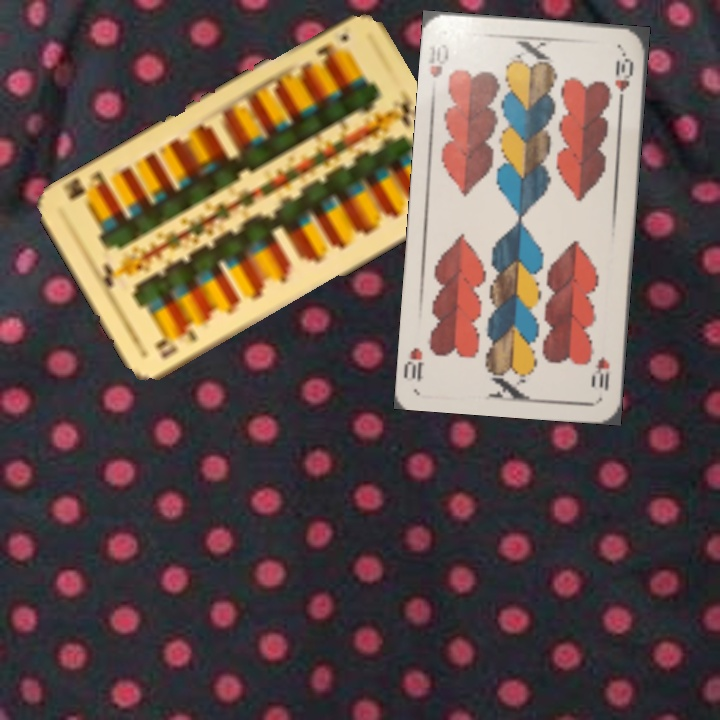E10: (153, 325, 199, 361), (311, 29, 352, 64)
H10: (426, 40, 452, 80), (588, 353, 612, 393)
